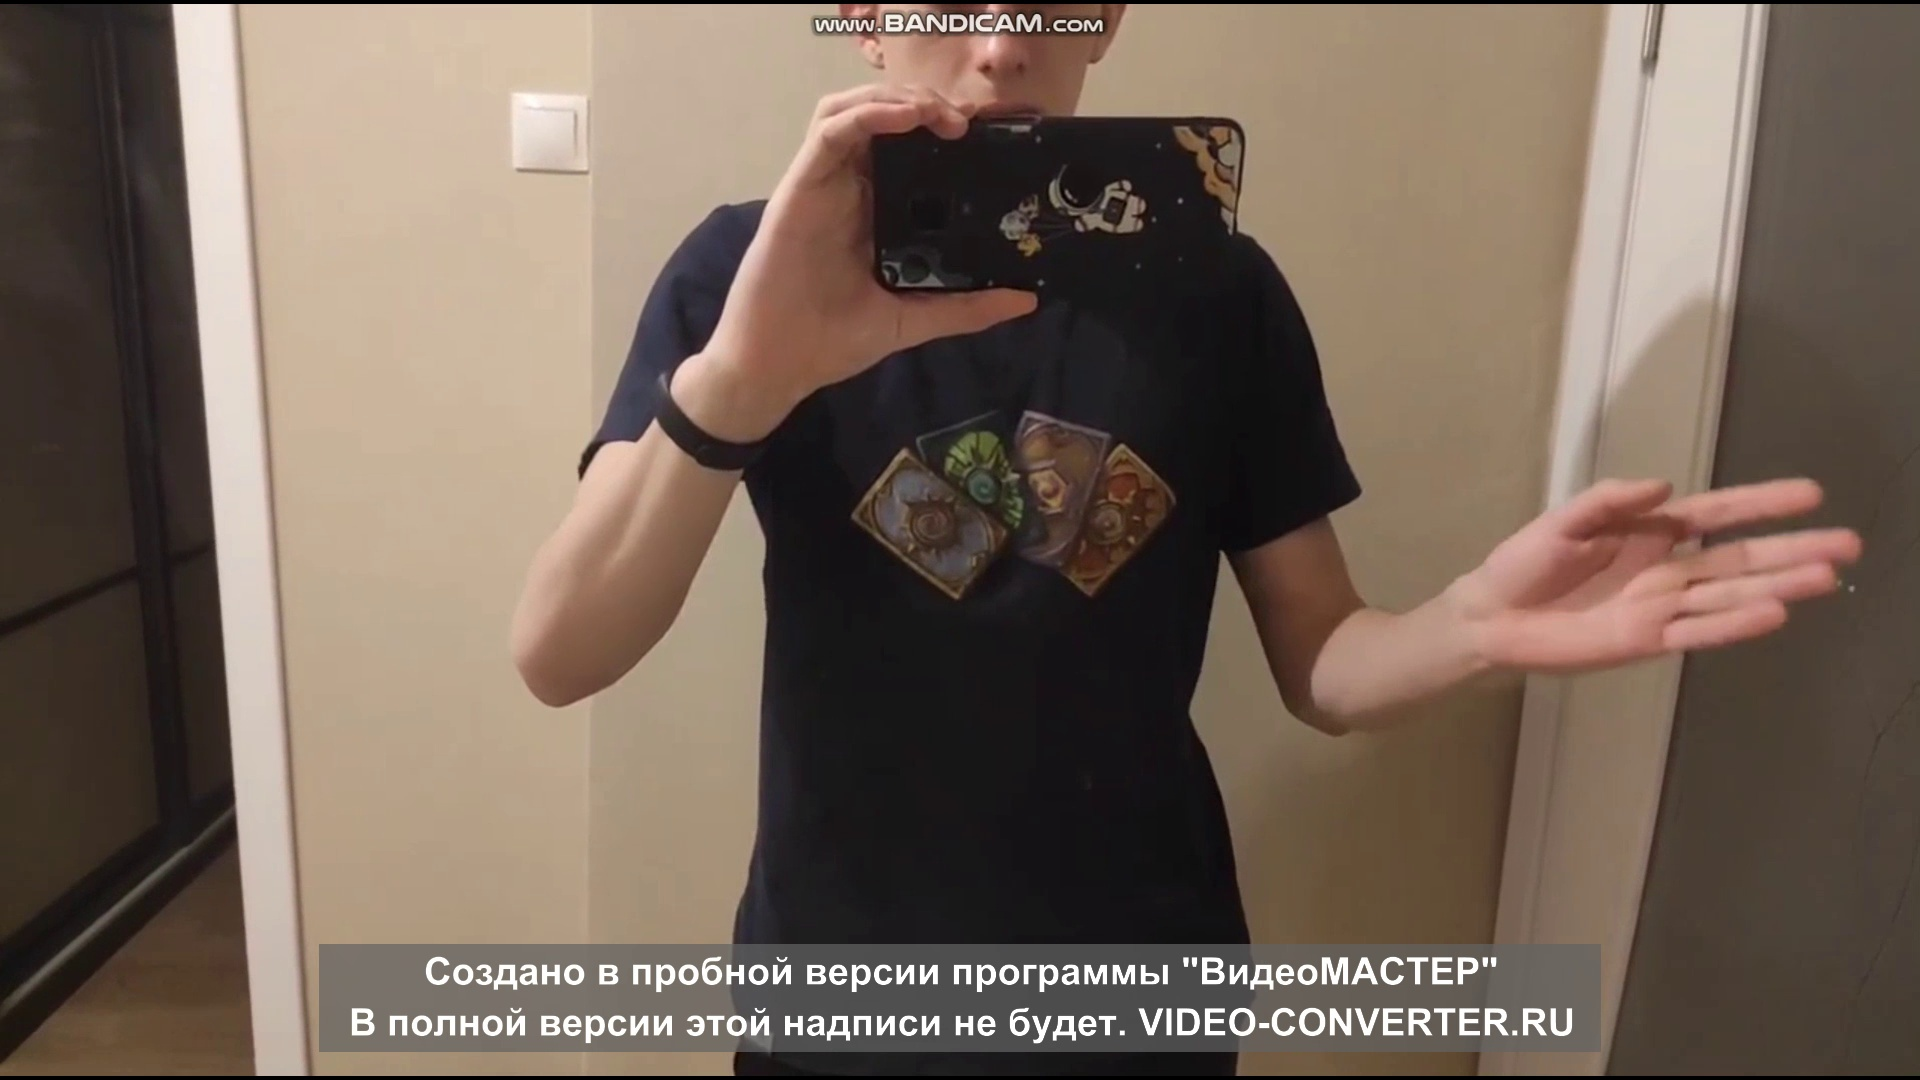Ладонь: (1481, 473, 1858, 674)
